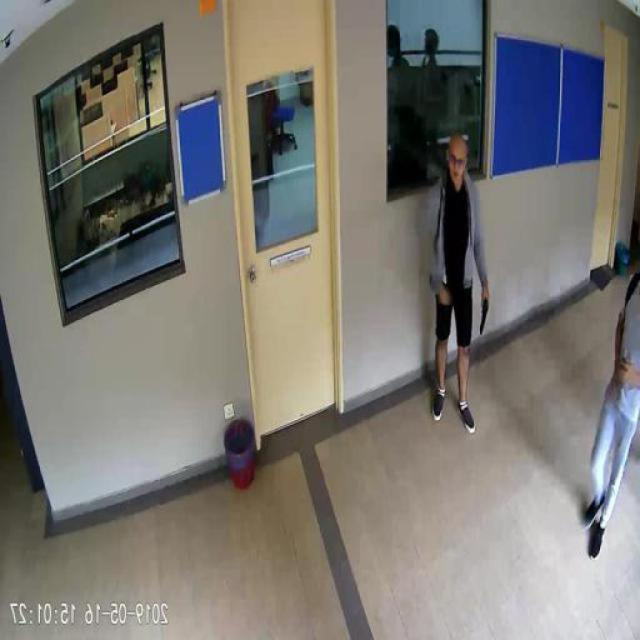pistol: (481, 290, 492, 334)
